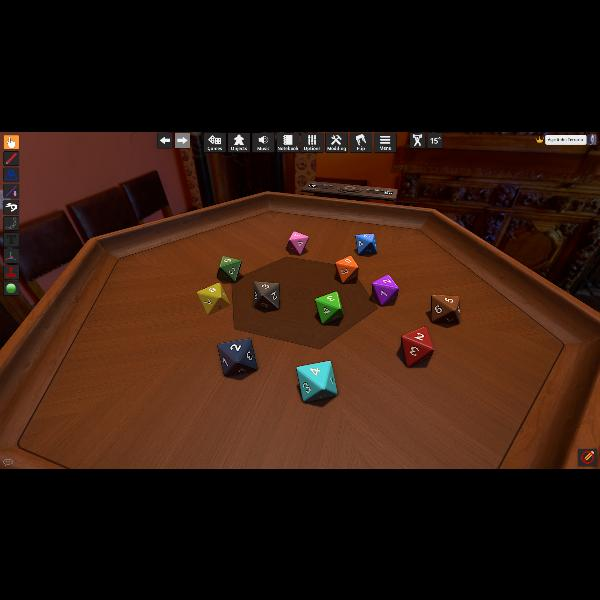d8: (296, 360, 334, 402), (217, 338, 257, 375), (402, 326, 432, 366), (430, 294, 460, 324), (315, 292, 343, 324), (198, 282, 226, 314), (254, 280, 280, 310), (371, 274, 397, 304), (217, 254, 241, 282), (336, 255, 358, 282), (355, 233, 377, 255), (286, 231, 306, 255)
